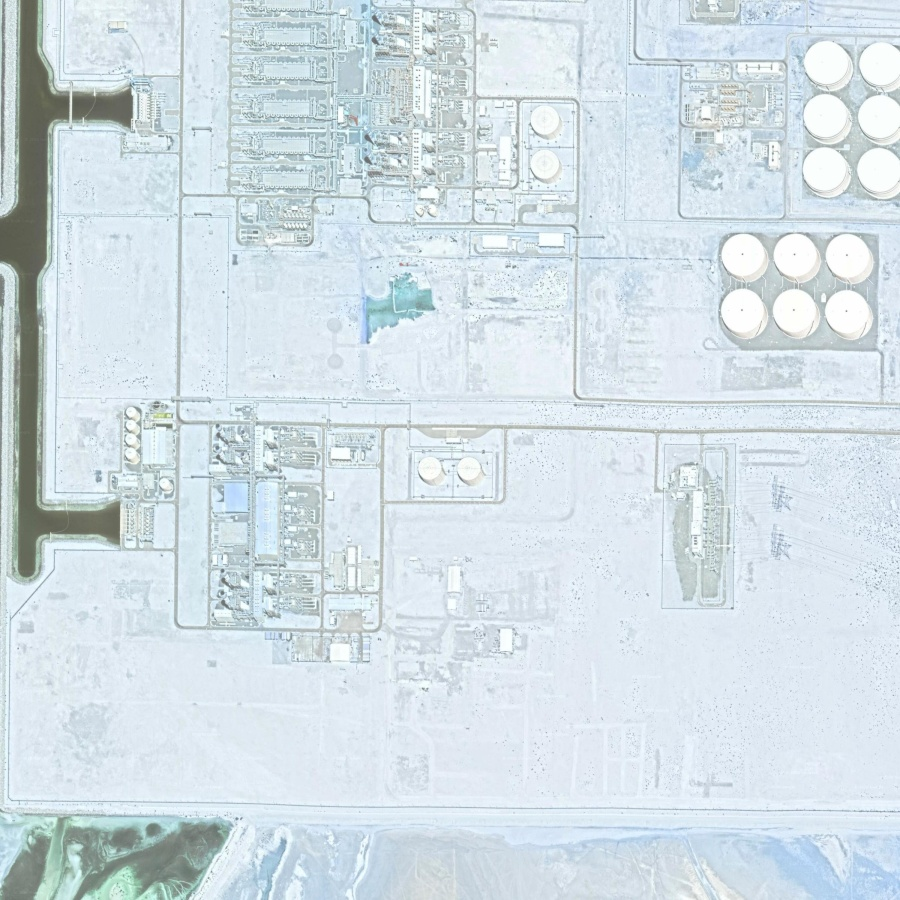PowerPlant: (113, 387, 527, 671)
